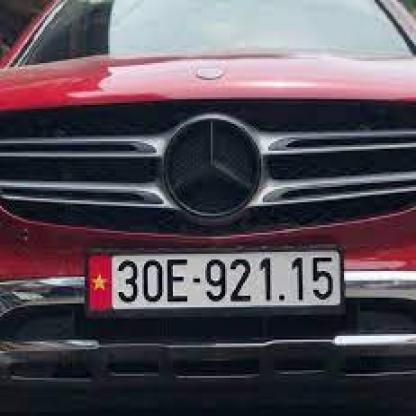biensoxe: (81, 246, 345, 318)
